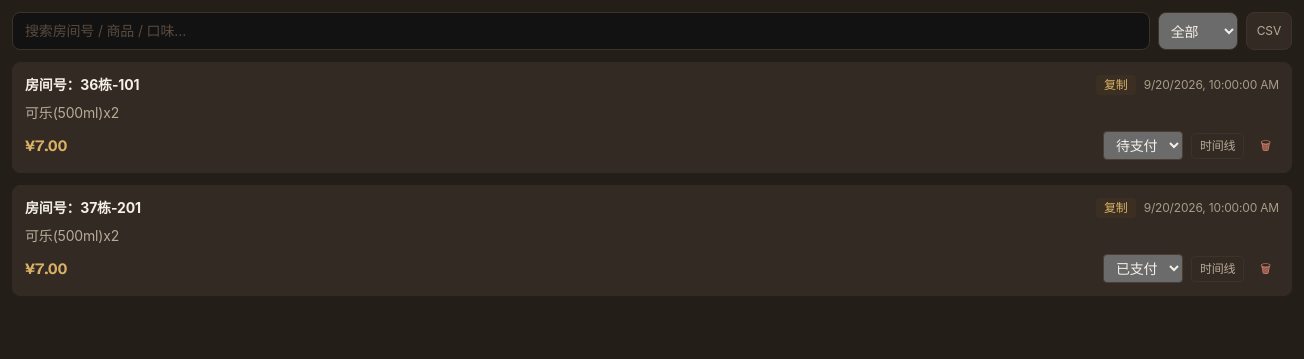
Test: 状态流转 › 抛错分支 → notice「更新失败：<原因>」
The image size is (1304, 359).
Select "已支付" in the dropdown named "订单 36栋-101 的状态" at (1143, 146), box [1103, 131, 1183, 160]
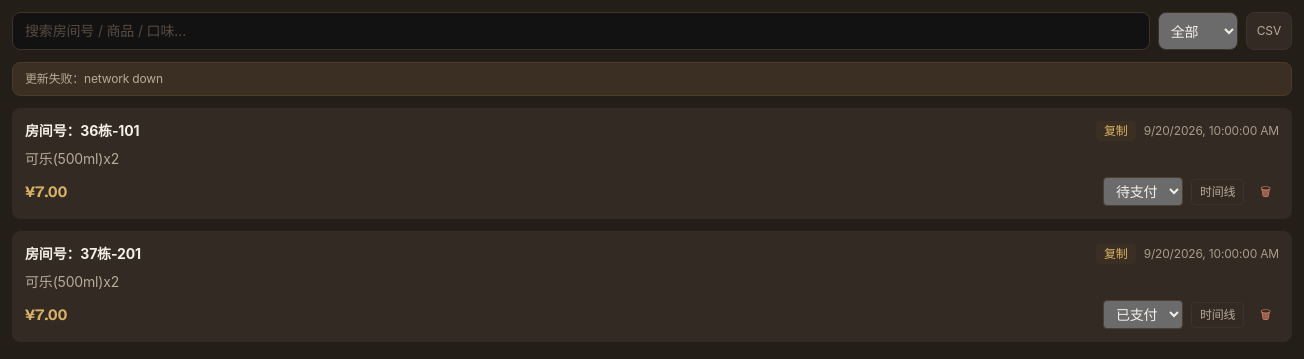
expect the message reads "更新失败：network down": met, box [25, 71, 163, 86]
